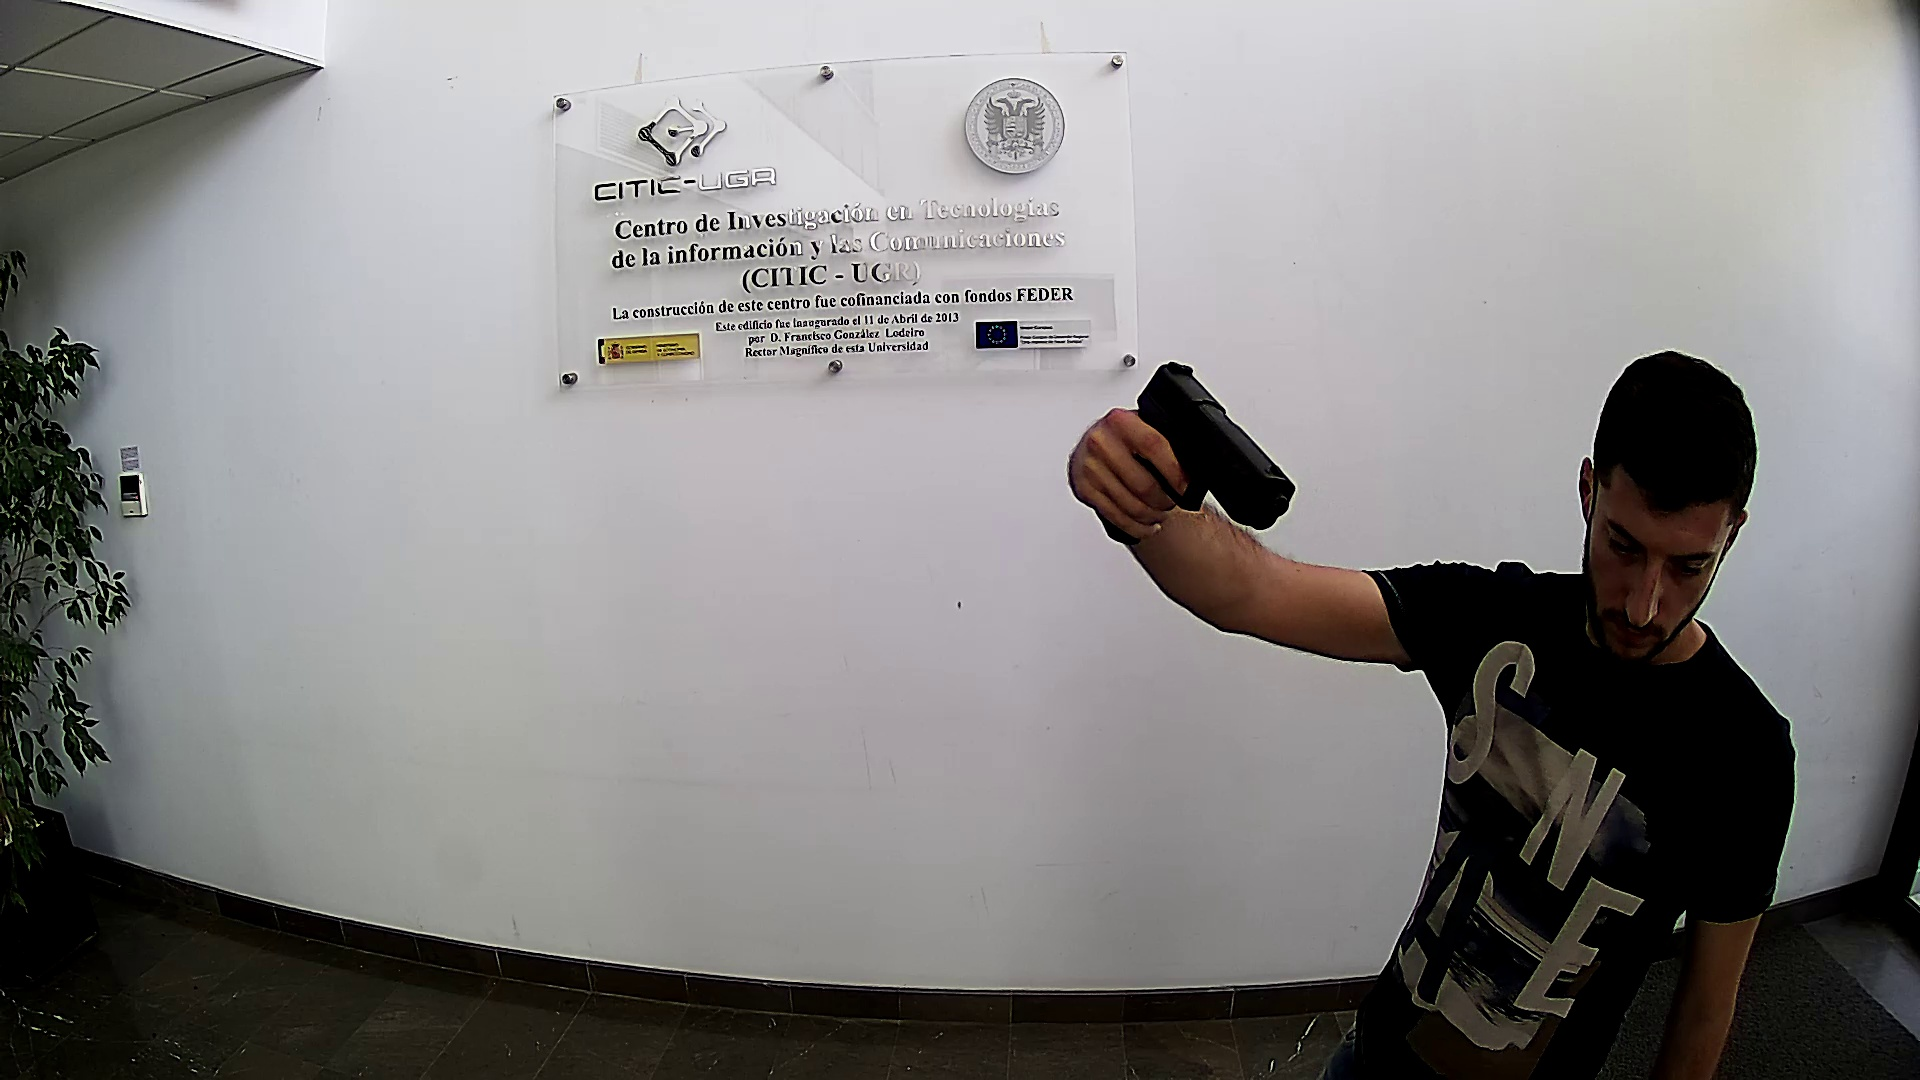pistol: (1089, 359, 1299, 549)
